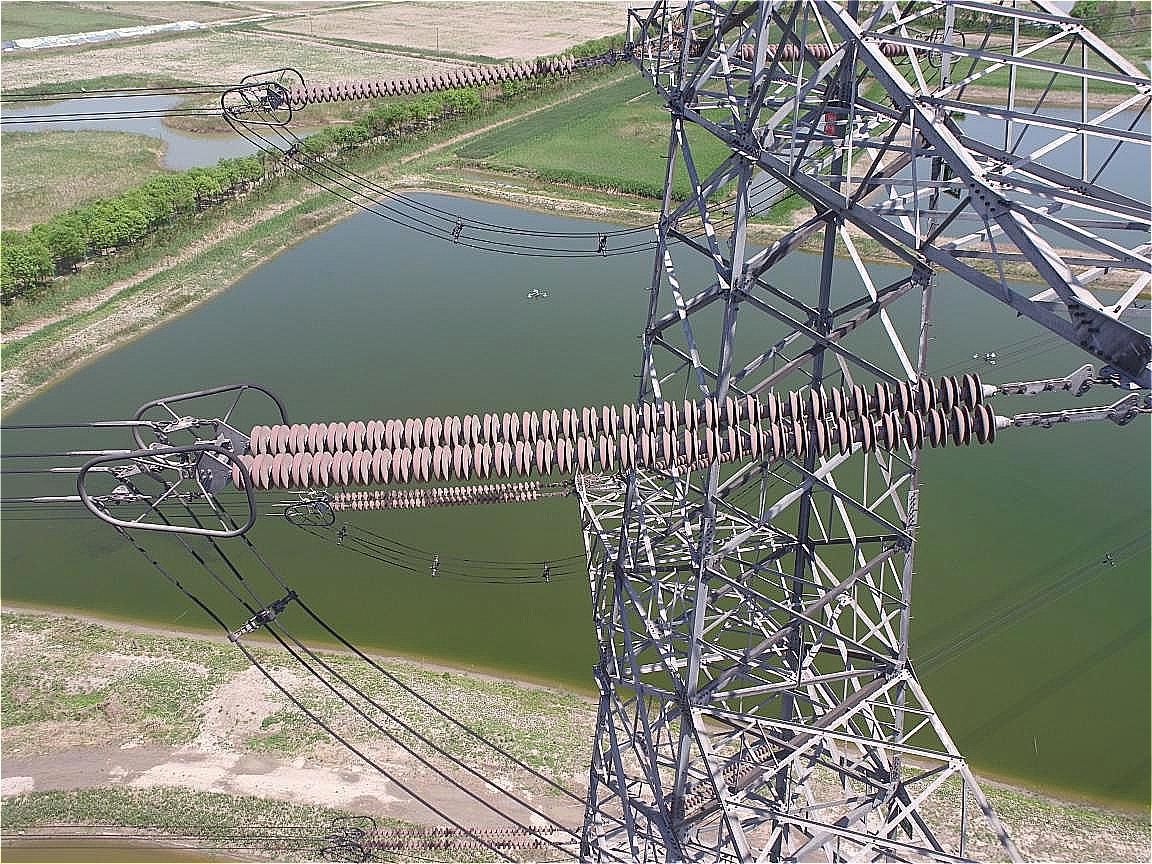insultor1: (289, 51, 584, 105), (322, 477, 546, 520)
insultor2: (217, 365, 1011, 494)
